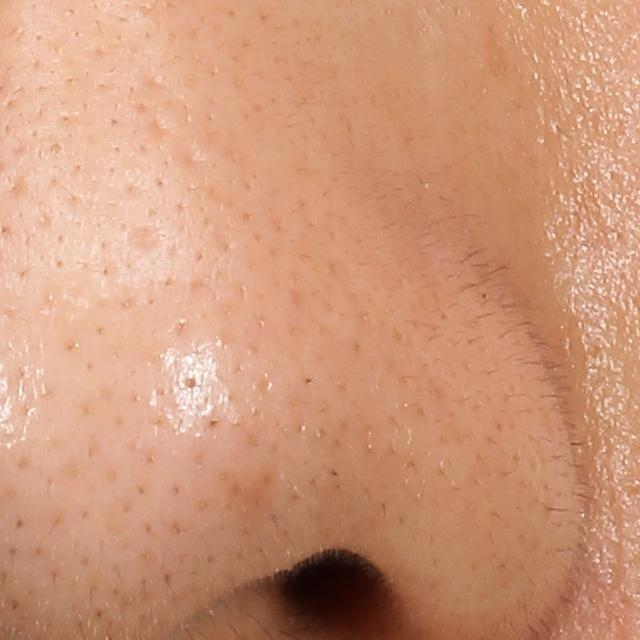atrophic_scar: (124, 222, 168, 252), (149, 117, 172, 143)
